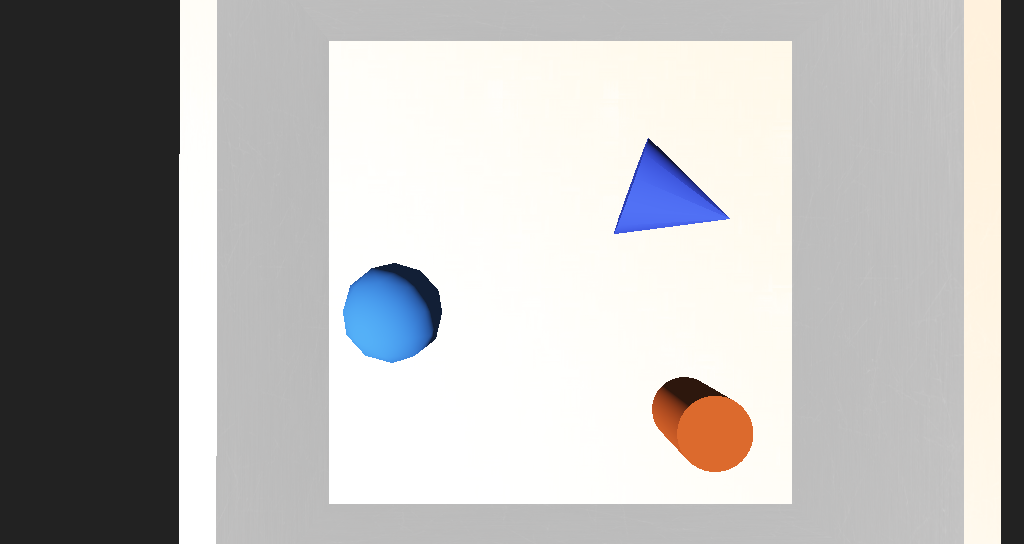cone: (566, 315, 620, 353)
cylinder: (536, 196, 637, 272)
sphere: (364, 262, 431, 310)
